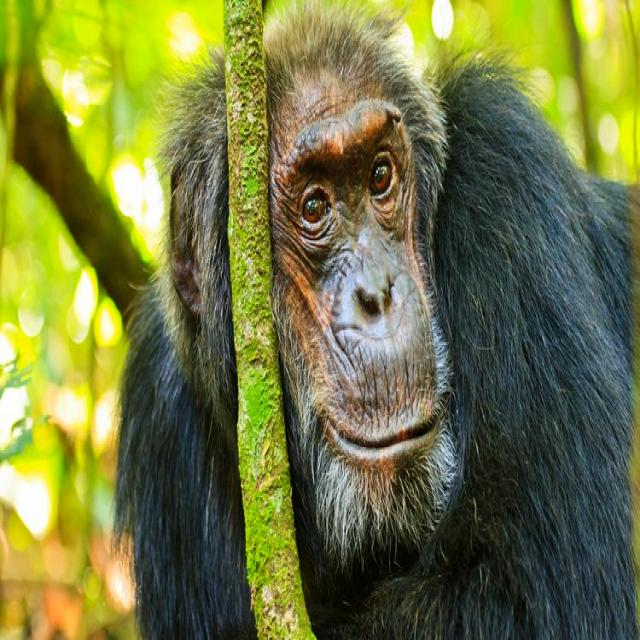chimpanzee: (265, 2, 639, 638), (115, 53, 255, 638)
